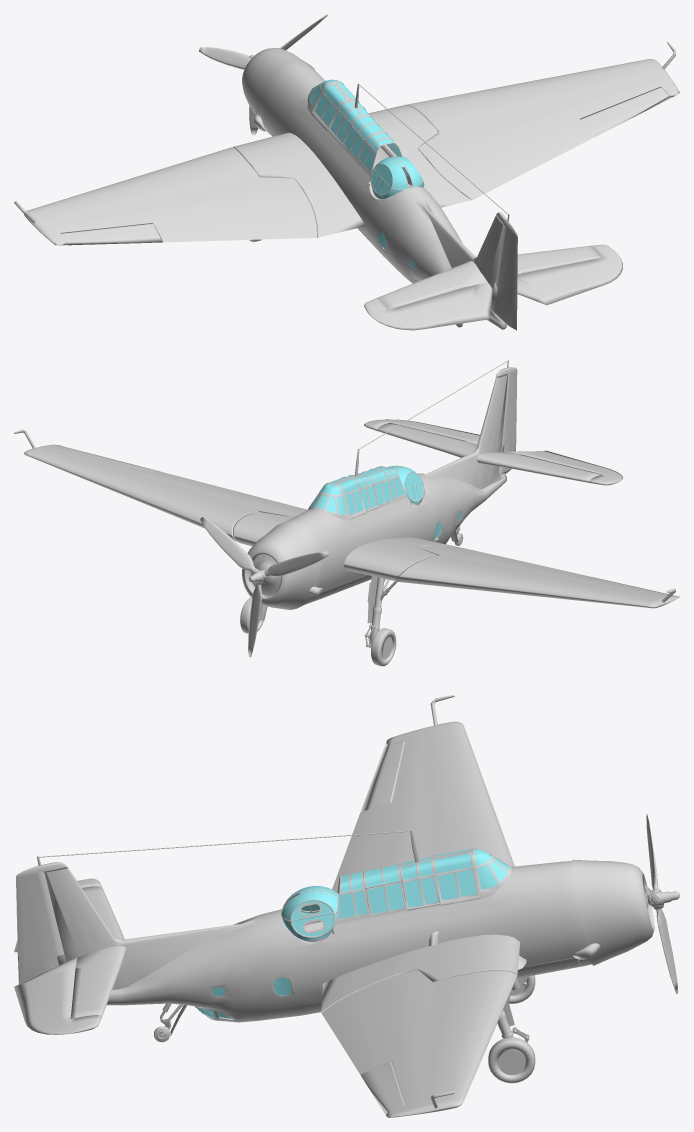
Rendered from TBM-3 Avenger_crash.FBX.
3 views of the same model, one above another, from view 1: azimuth 30°, elevation 25°; view 2: azimuth 150°, elevation 25°; view 3: azimuth 270°, elevation 25° (orthographic). The views are drawn at different scales.
Parts seen in each view (by area): view 1: Bodywork, wing_L.006, wing_L.005, slider_R_2.001, elevators.003, elevators.002, rudder, spinner; view 2: Bodywork, wing_L.006, wing_L.005, slider_R_2.001, spinner, rudder, elevators.003, elevators.002; view 3: Bodywork, wing_L.006, wing_L.005, slider_R_2.001, rudder, elevators.002, spinner, frame, slider_R.
Boxes of the visible parts, box(x1,y1,x2,y2) form: Bodywork: box(233, 48, 600, 329); wing_L.006: box(404, 42, 679, 199); wing_L.005: box(14, 147, 317, 245); slider_R_2.001: box(309, 79, 424, 268); elevators.003: box(364, 283, 492, 330); elevators.002: box(517, 244, 622, 305); rudder: box(490, 212, 517, 330); spinner: box(199, 14, 327, 135); Bodywork: box(233, 360, 600, 666); wing_L.006: box(14, 429, 307, 543); wing_L.005: box(398, 545, 679, 608); slider_R_2.001: box(310, 465, 461, 537); spinner: box(200, 517, 329, 657); rudder: box(496, 360, 517, 475); elevators.003: box(500, 450, 622, 485); elevators.002: box(364, 419, 479, 444); Bodywork: box(39, 830, 654, 1083); wing_L.006: box(321, 969, 517, 1117); wing_L.005: box(332, 695, 514, 892); slider_R_2.001: box(196, 849, 509, 1018); rudder: box(16, 856, 67, 984); elevators.002: box(14, 958, 102, 1034); spinner: box(644, 814, 679, 994); frame: box(281, 888, 338, 941); slider_R: box(433, 852, 479, 905).
Bounding box in the file's own units: 1745 × 1236 × 435.
